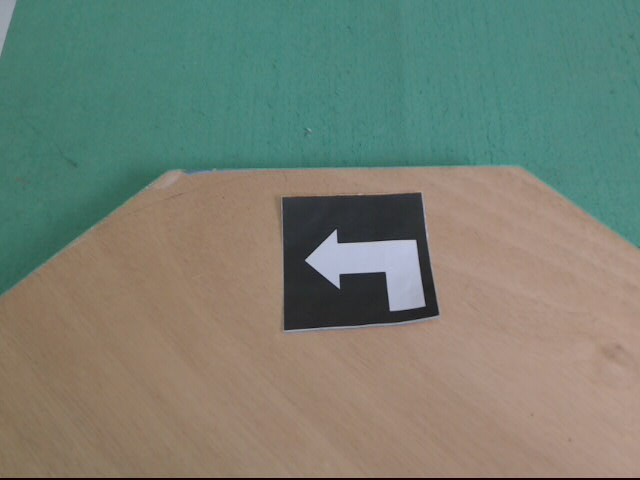left: (281, 192, 442, 332)
